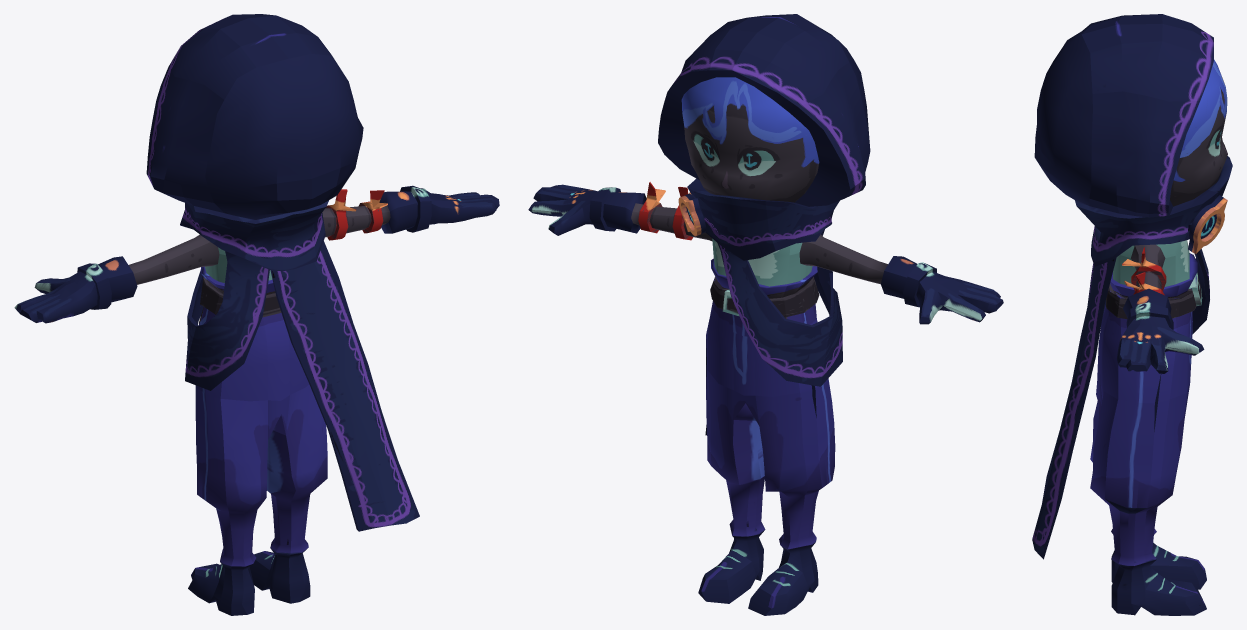
File: PLAYER_UV.fbx
The picture shows the model from 3 angles, left to right: view 1: azimuth 30°, elevation 25°; view 2: azimuth 150°, elevation 25°; view 3: azimuth 270°, elevation 25°; orthographic projection. The views are drawn at different scales.
Visible parts, largest first — view 1: pasted__polySurface4; view 2: pasted__polySurface4; view 3: pasted__polySurface4.
Part boxes in pixels (x1,y1,x2,y2): pasted__polySurface4: [14, 14, 499, 615]; pasted__polySurface4: [528, 14, 1003, 615]; pasted__polySurface4: [1032, 14, 1232, 615].
Bounding box in the file's own units: 10.73 × 12.42 × 3.95.
Materials: 1 (1 with a texture image).
